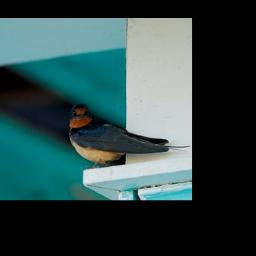Swallow: (65, 99, 190, 168)
